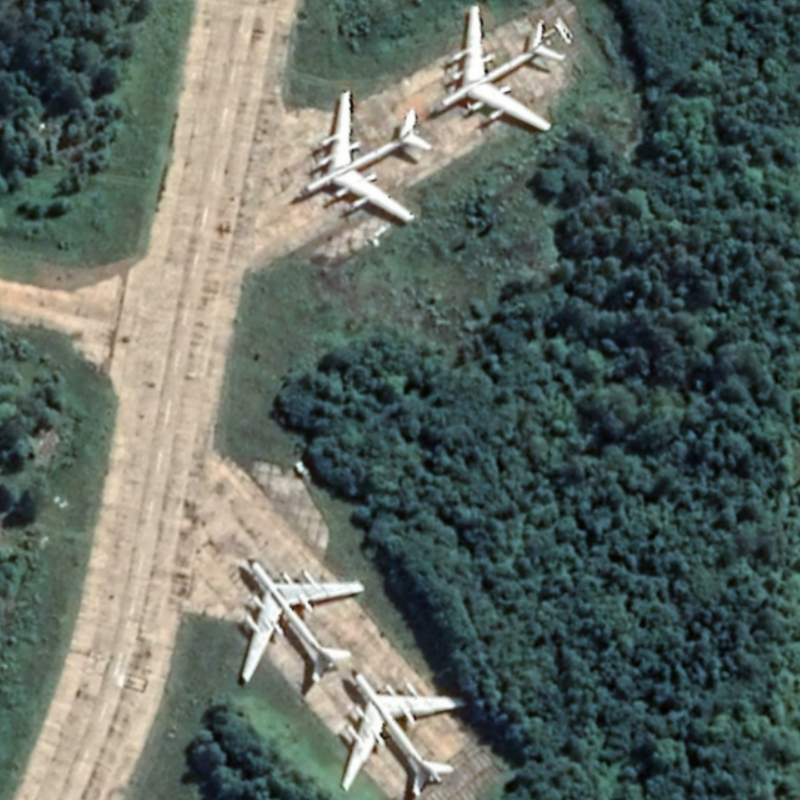A17: (290, 87, 436, 226), (426, 3, 573, 137), (231, 555, 369, 694), (336, 665, 473, 800)
